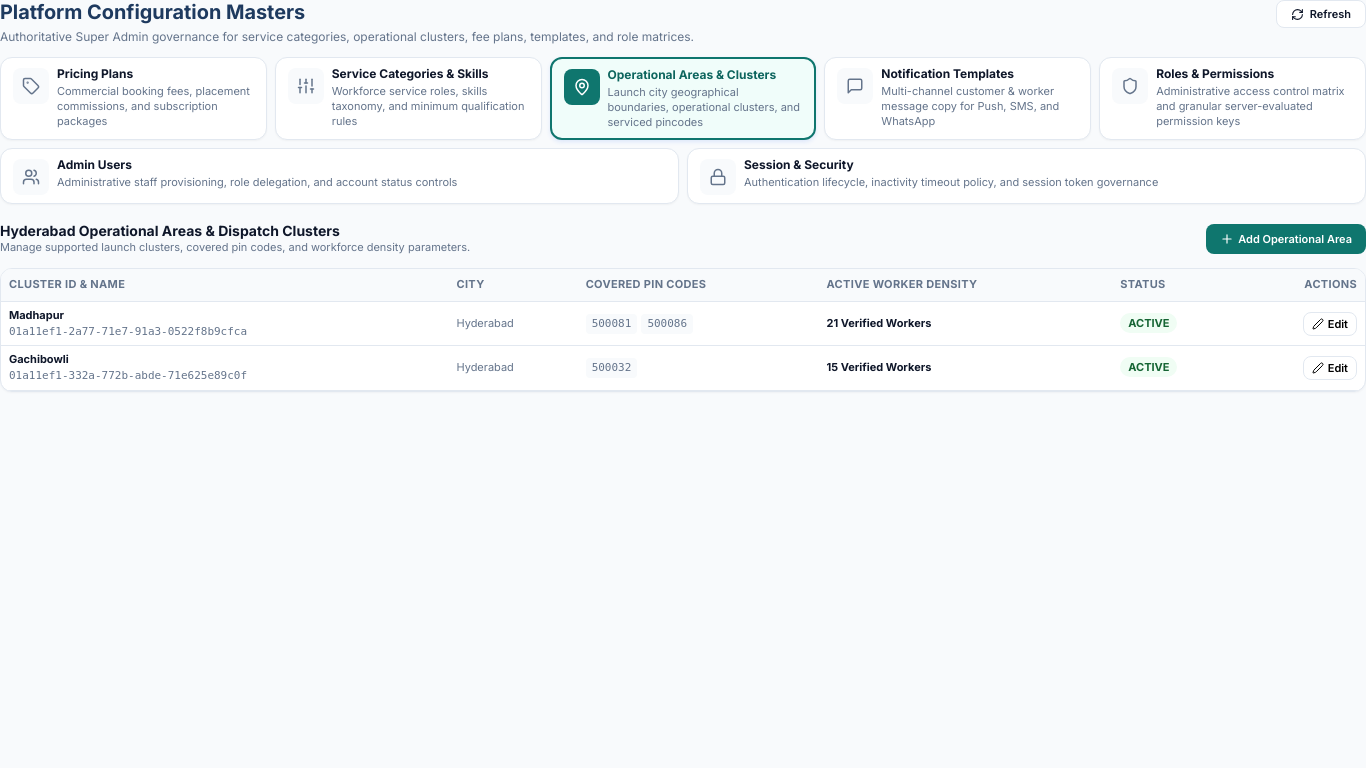
Scenario: Operational Areas & Clusters Configuration Form › 2. Loads real existing backend values when editing an operational area and saves updates without duplicates
This screenshot has width=1366, height=768.
expect the text "Madhapur" is shown: met, box [9,308,64,322]
// Click Edit button for Madhapur
Click the button with aria-label "Edit" at [683, 324], box [1,301,1365,346]
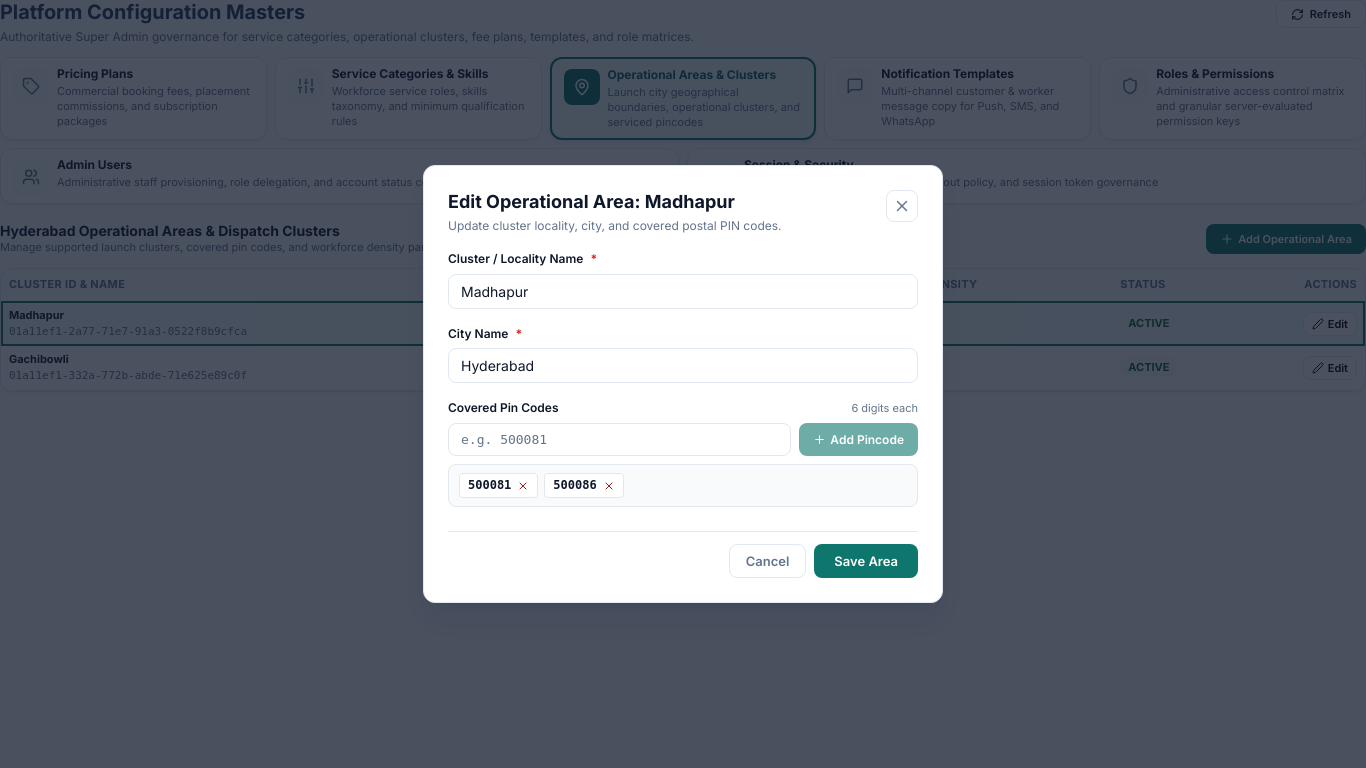
expect the heading "Edit Operational Area: Madhapur" is shown: met, box [448,190,735,212]
expect the field labelled "Cluster / Locality Name *" holds "Madhapur": met
expect the field labelled "City Name *" holds "Hyderabad": met, box [448,348,918,383]
// Update locality name
Replace the text in the field labelled "Cluster / Locality Name *" with "Madhapur Core" at [683, 291], box [448,274,918,309]
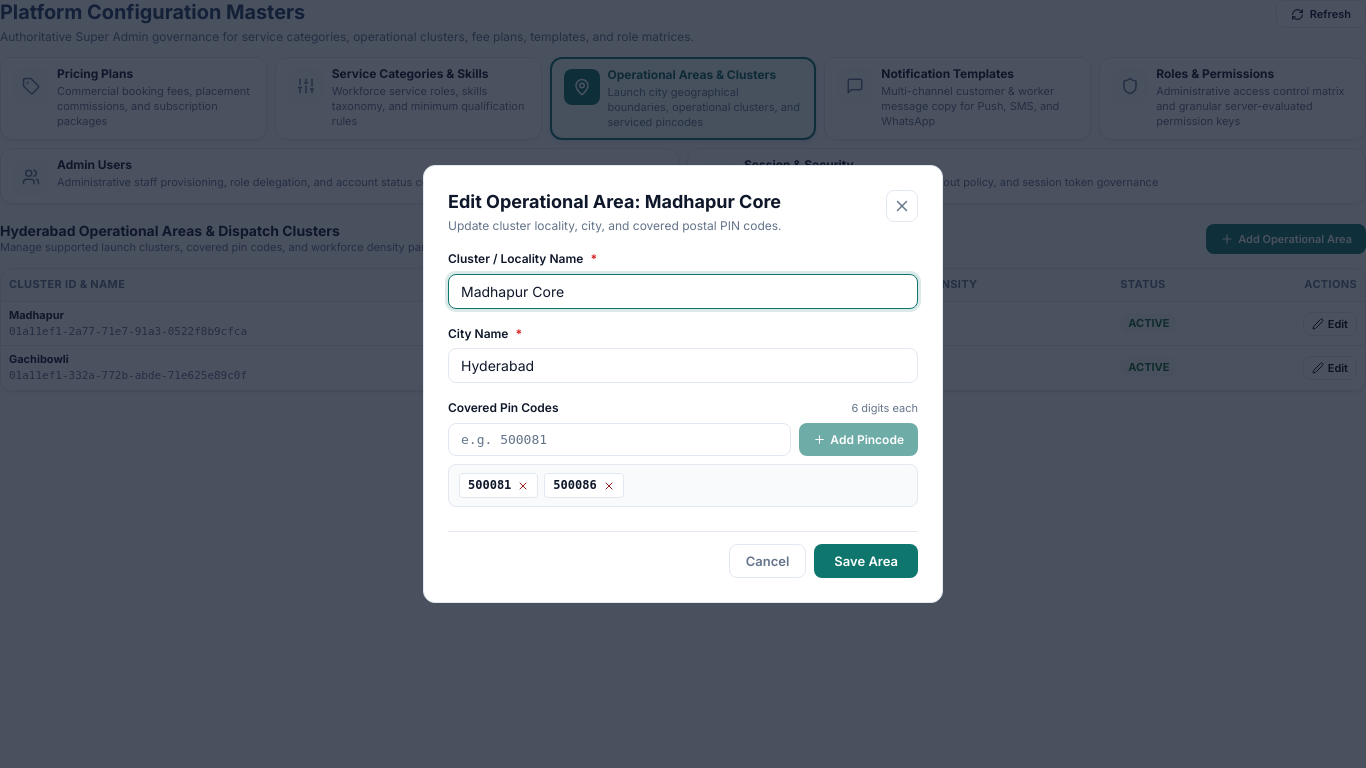
// Add another PIN code
Type "500087" into the field with placeholder "e.g. 500081" at [620, 440], box [448,423,791,456]
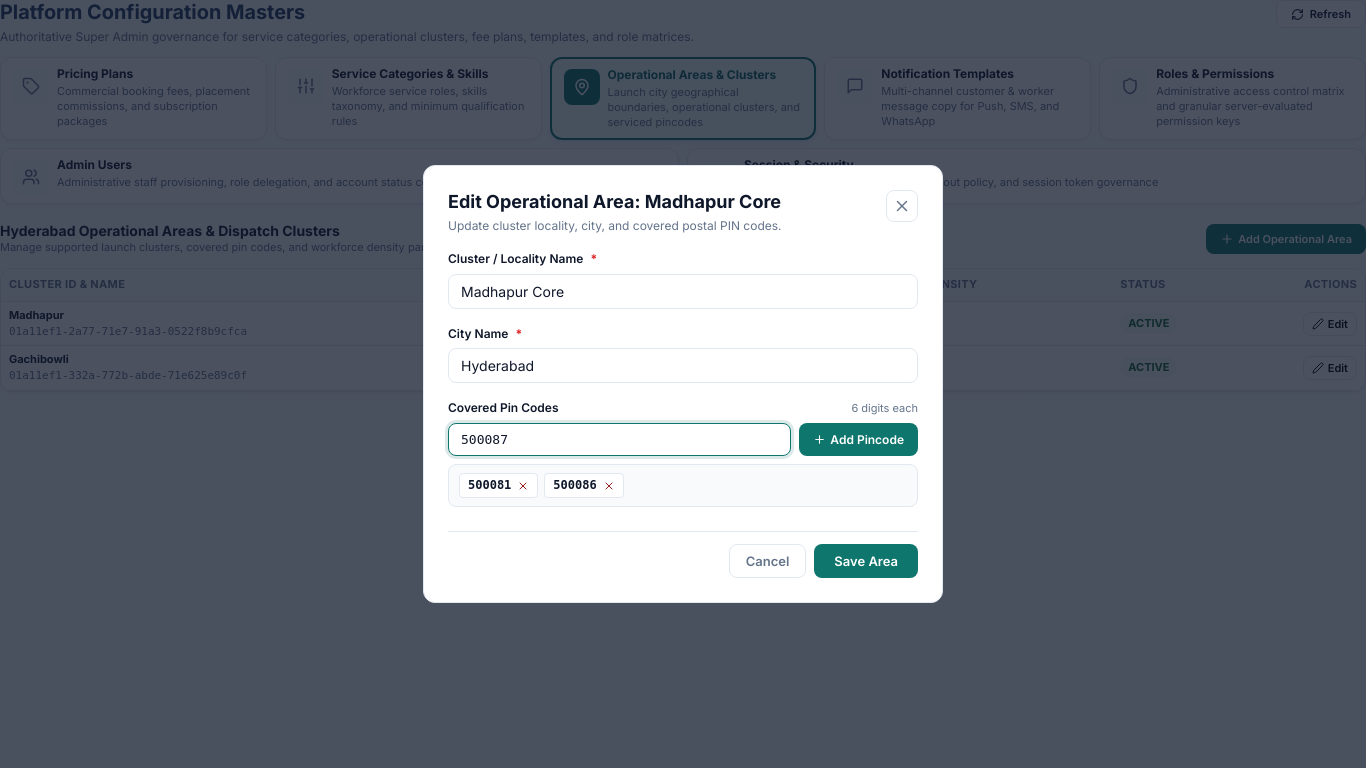
Click the button "Add Pincode" at [859, 440], box [799,423,918,456]
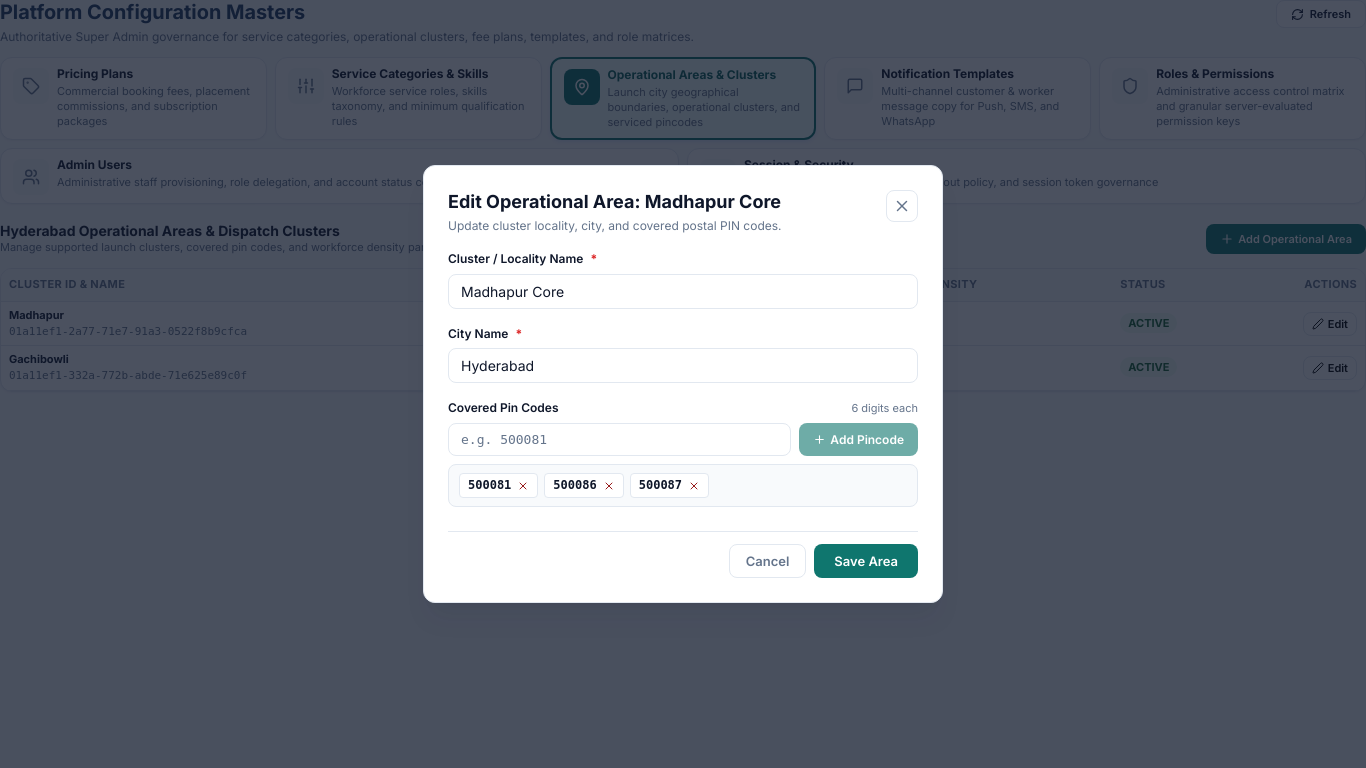
expect the text "500087" is shown: met, box [630,473,709,498]
// Save changes
Click the button "Save Area" at [866, 561], box [814,544,918,578]
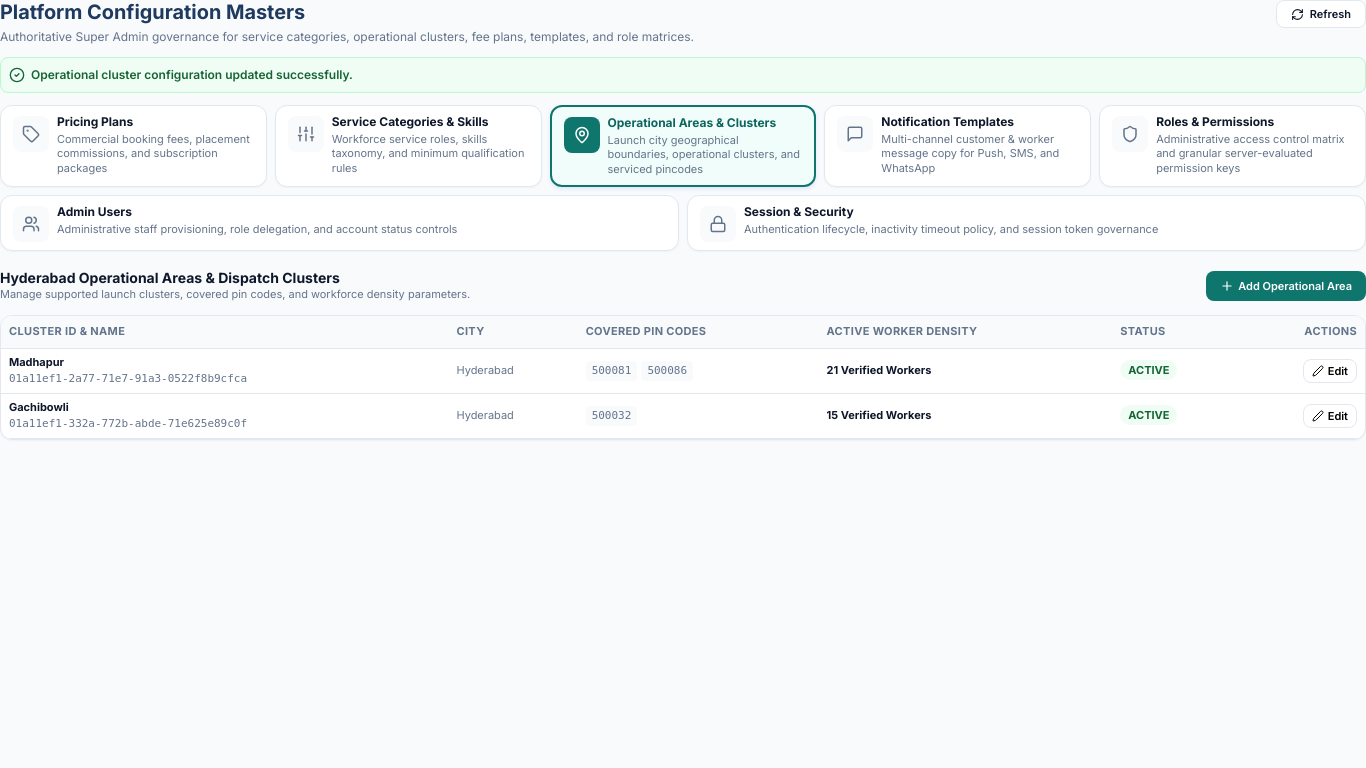
expect the heading "Edit Operational Area" is gone: met
expect the text "Operational cluster configuration updated successfully." is shown: met, box [31,66,353,84]
